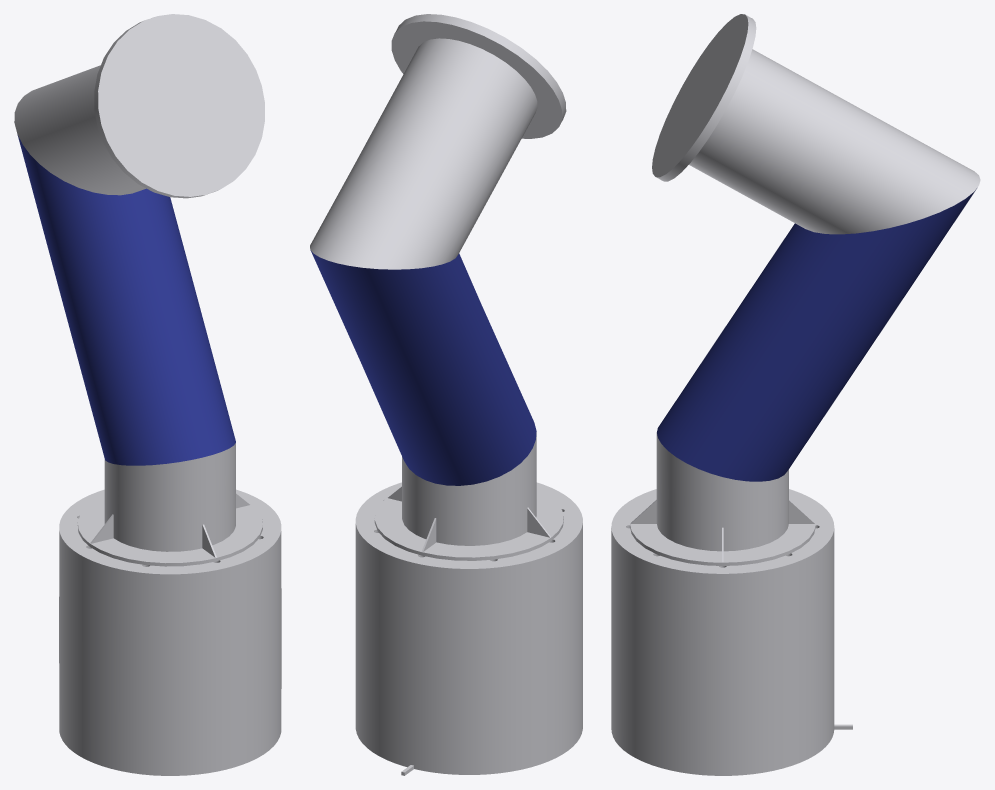
Rendered from seperate-1 v3-blue.fbx.
The picture shows the model from 3 angles, left to right: view 1: azimuth 30°, elevation 25°; view 2: azimuth 150°, elevation 25°; view 3: azimuth 270°, elevation 25°; orthographic projection. The views are drawn at different scales.
Visible parts, largest first — view 1: Body1 (×2); view 2: Body1 (×2); view 3: Body1 (×2).
Part boxes in pixels (x1,y1,x2,y2): Body1 (×2): (14,14,281,775); Body1 (×2): (310,14,582,775); Body1 (×2): (611,14,980,775).
Bounding box in the file's own units: 0.6 × 2.09 × 0.9936.
